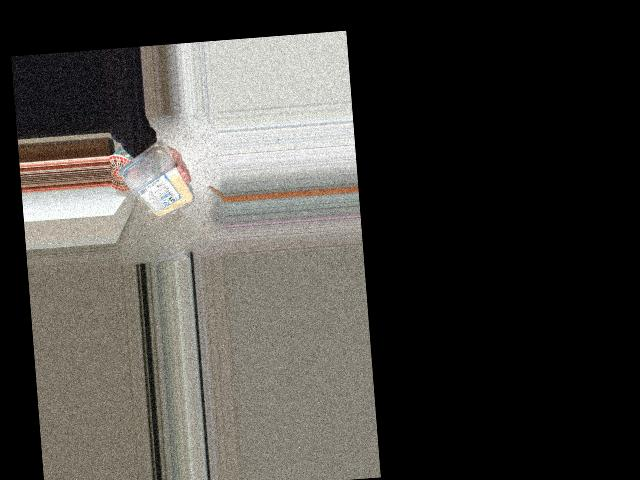cheese: (113, 156, 191, 223)
